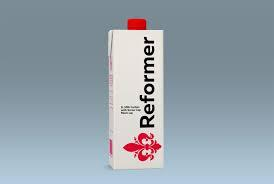Tetra pack: (96, 16, 183, 178)
